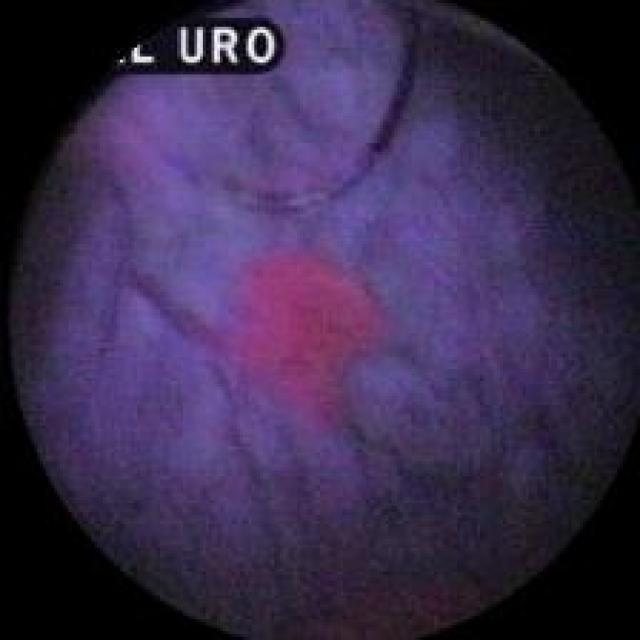color misalignment: (82, 23, 289, 77)
contrast: (460, 49, 629, 315), (21, 131, 88, 379)
instrument: (106, 7, 421, 216)
